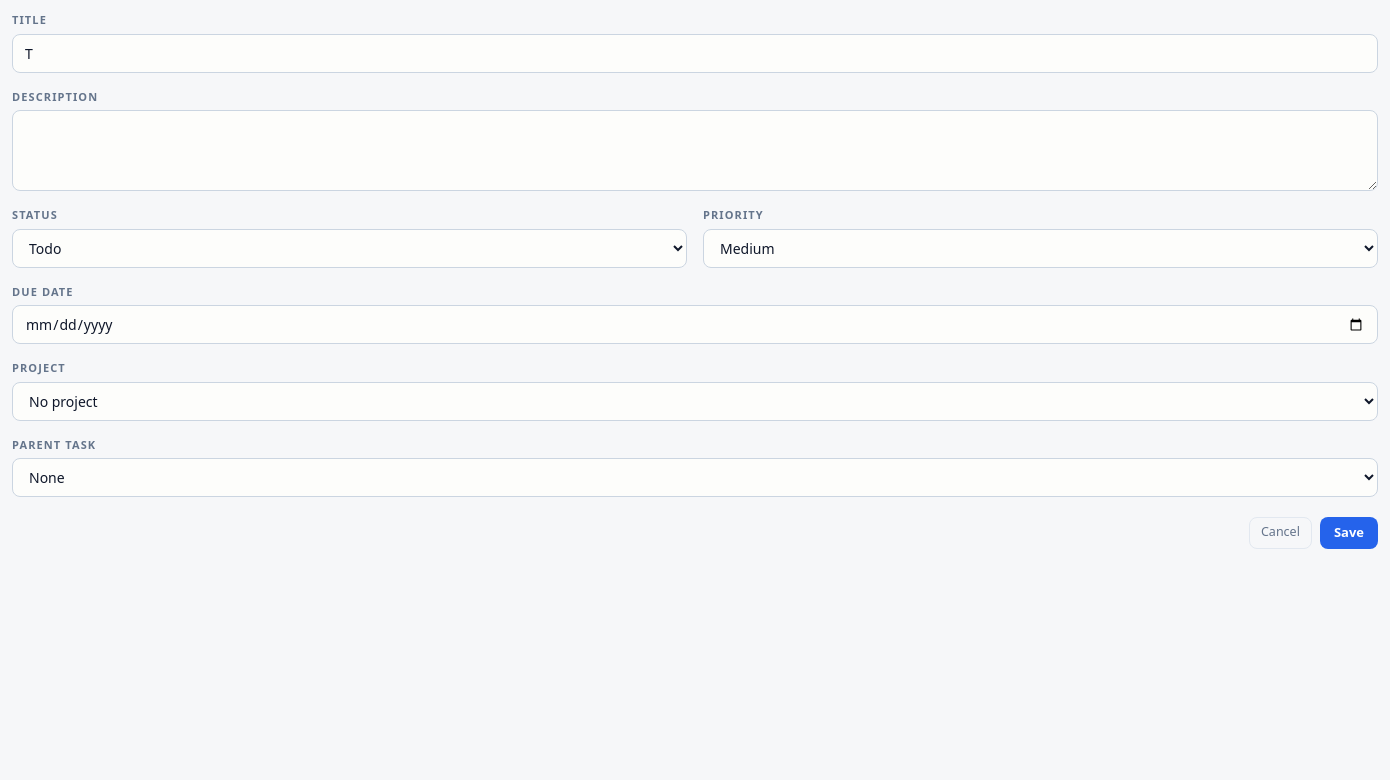
Scenario: TaskForm › blocked status › shows the reason field only while the status is Blocked
This screenshot has width=1390, height=780.
Expected: the field labelled "Blocked reason (optional)" is not shown
Step 1. Select "Blocked" in the dropdown labelled "Status" → (350, 248), box [12,228,687,268]
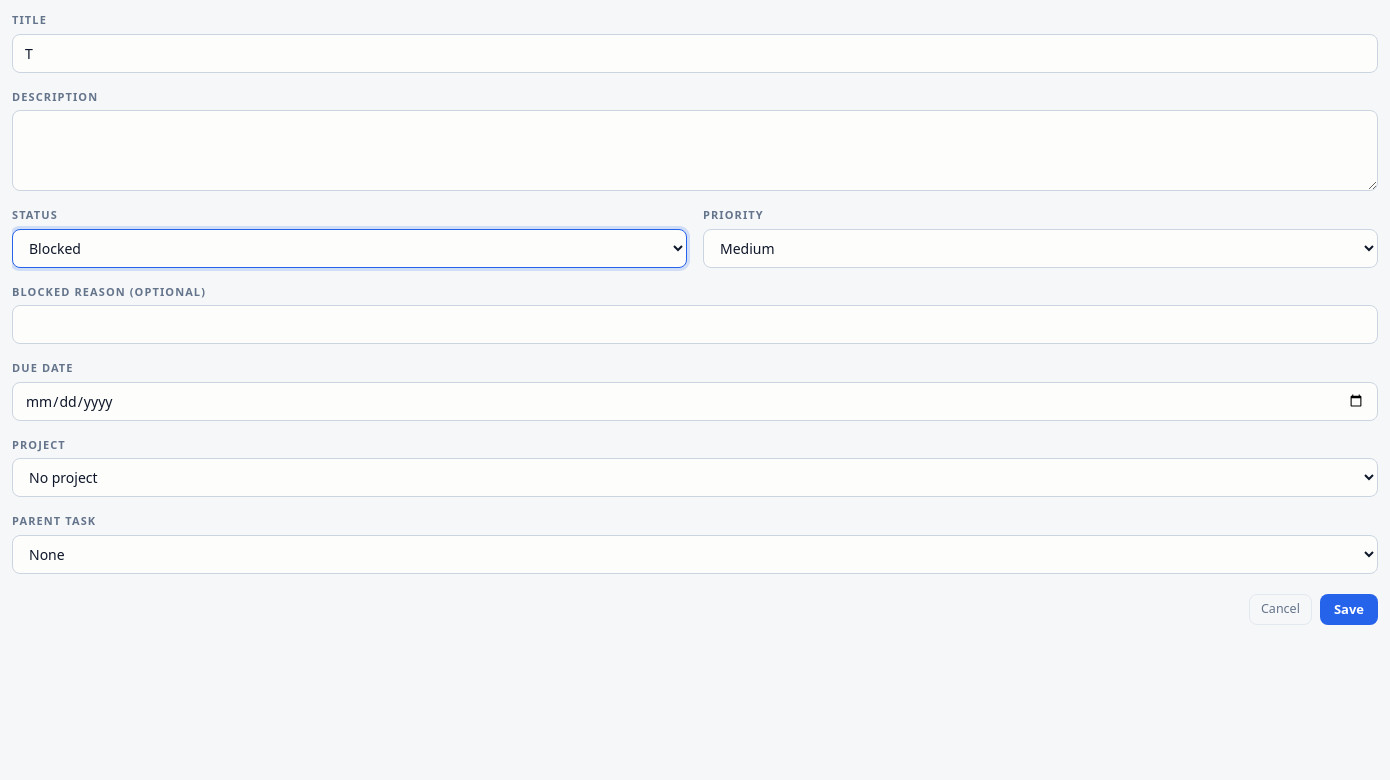
Step 2. Select "Todo" in the dropdown labelled "Status" → (350, 248), box [12,228,687,268]
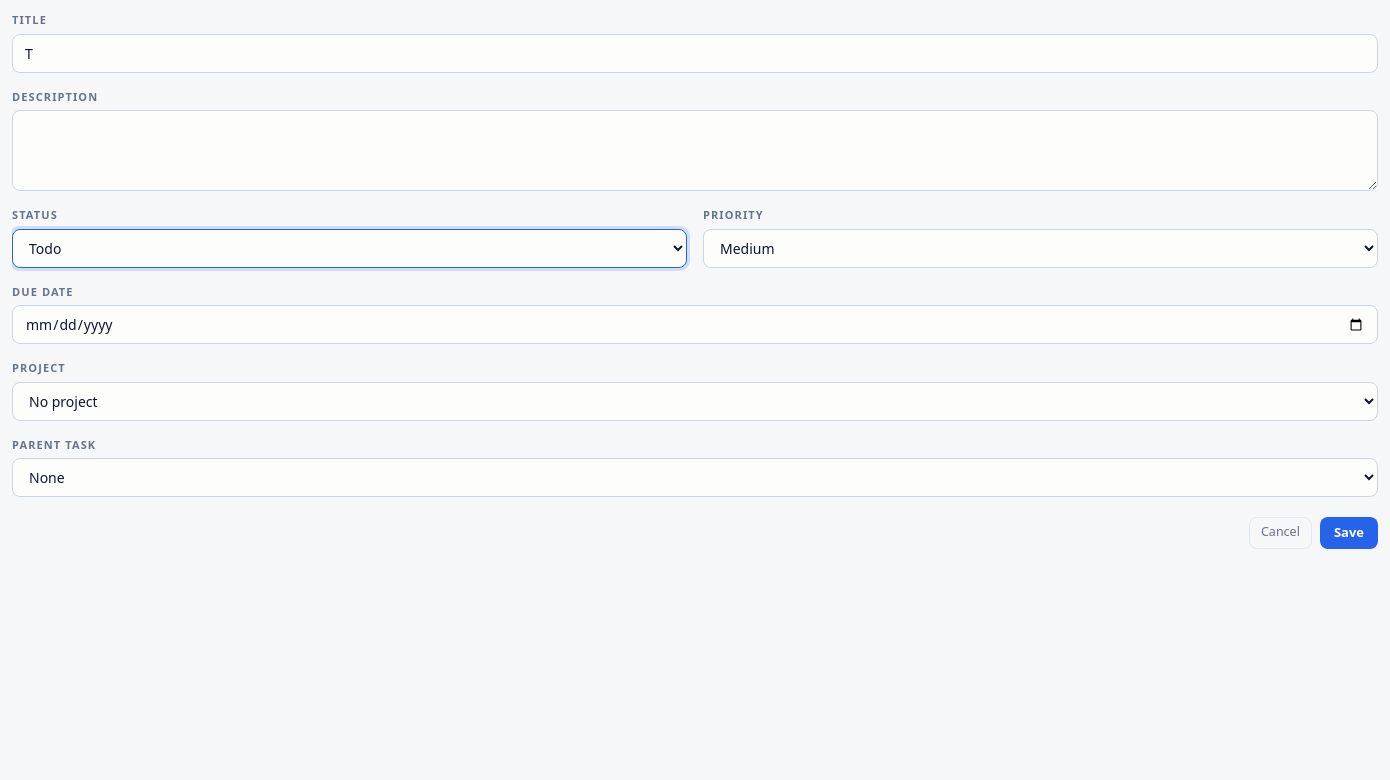
Expected: the label labelled "Blocked reason (optional)" is gone
